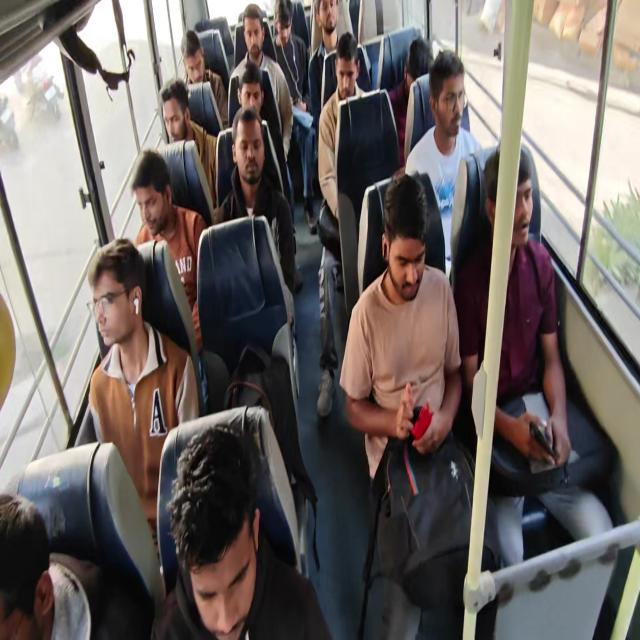person: (136, 436, 338, 640), (7, 426, 76, 640), (93, 222, 178, 364), (490, 174, 564, 292), (382, 193, 436, 323), (112, 132, 172, 218), (428, 65, 484, 143), (149, 82, 204, 154), (325, 42, 367, 116), (227, 114, 264, 192), (270, 1, 305, 66), (309, 0, 351, 54), (233, 64, 270, 118), (179, 27, 212, 80), (235, 11, 266, 66), (411, 31, 440, 83)
